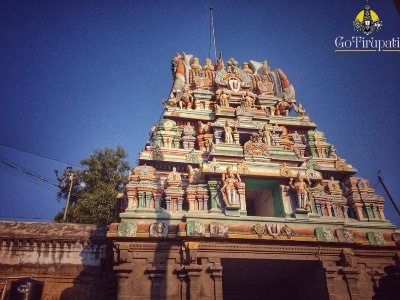gopura: (96, 49, 396, 230)
